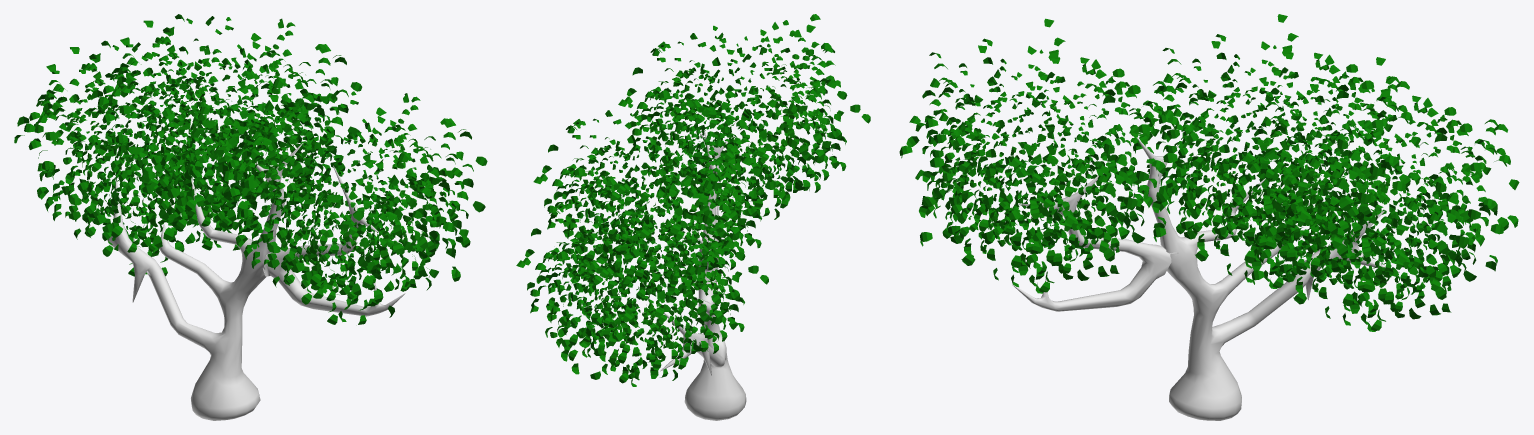
File: drzewo.fbx
3 renders of one model, left to right at view 1: azimuth 30°, elevation 25°; view 2: azimuth 150°, elevation 25°; view 3: azimuth 270°, elevation 25°, orthographic. The views are drawn at different scales.
Parts seen in each view (by area): view 1: Cube; view 2: Cube; view 3: Cube.
Part boxes in pixels (x1,y1,x2,y2): Cube: [107, 143, 405, 420]; Cube: [660, 130, 746, 420]; Cube: [1012, 137, 1399, 420].
Size of the model in its own units: 826 by 1014 by 1518.
